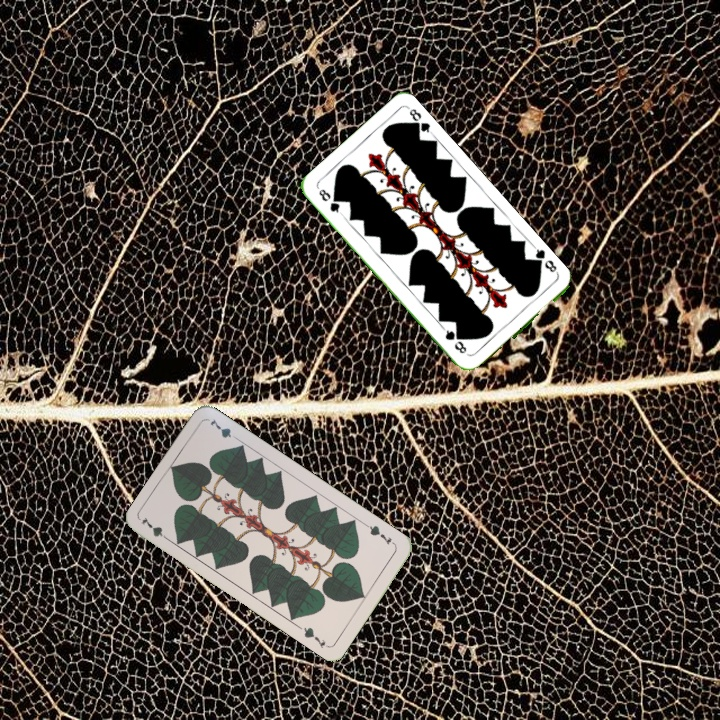G7: (137, 513, 174, 544), (362, 521, 395, 547)
G8: (529, 243, 561, 277), (315, 185, 345, 218)
